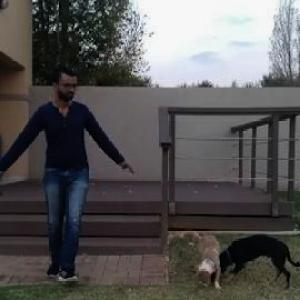land: (1, 74, 135, 284)
